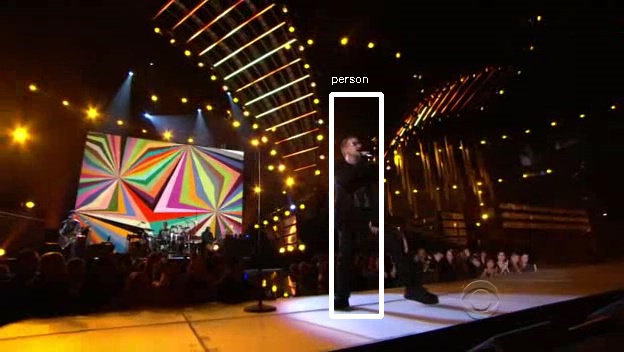person: (330, 136, 393, 245), (327, 136, 390, 245), (333, 136, 396, 245), (330, 133, 393, 242), (330, 139, 393, 248)
target_negative: (163, 196, 425, 293), (177, 222, 600, 275), (396, 266, 502, 350), (47, 46, 113, 171), (601, 5, 621, 265), (560, 68, 568, 235)
